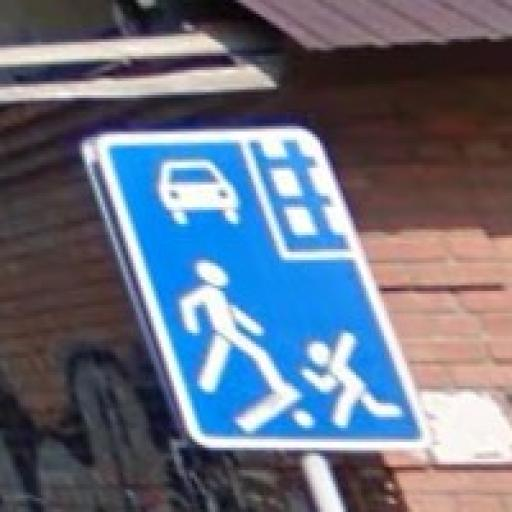traffic_sign: (98, 130, 436, 454)
